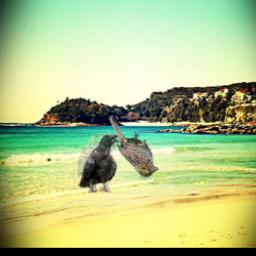Crow: (79, 133, 122, 193)
Sparrow: (108, 115, 160, 179)
